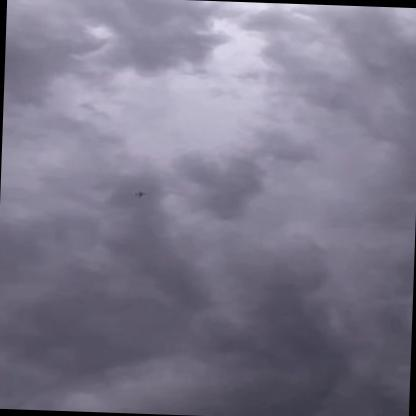plane: (136, 191, 148, 198)
